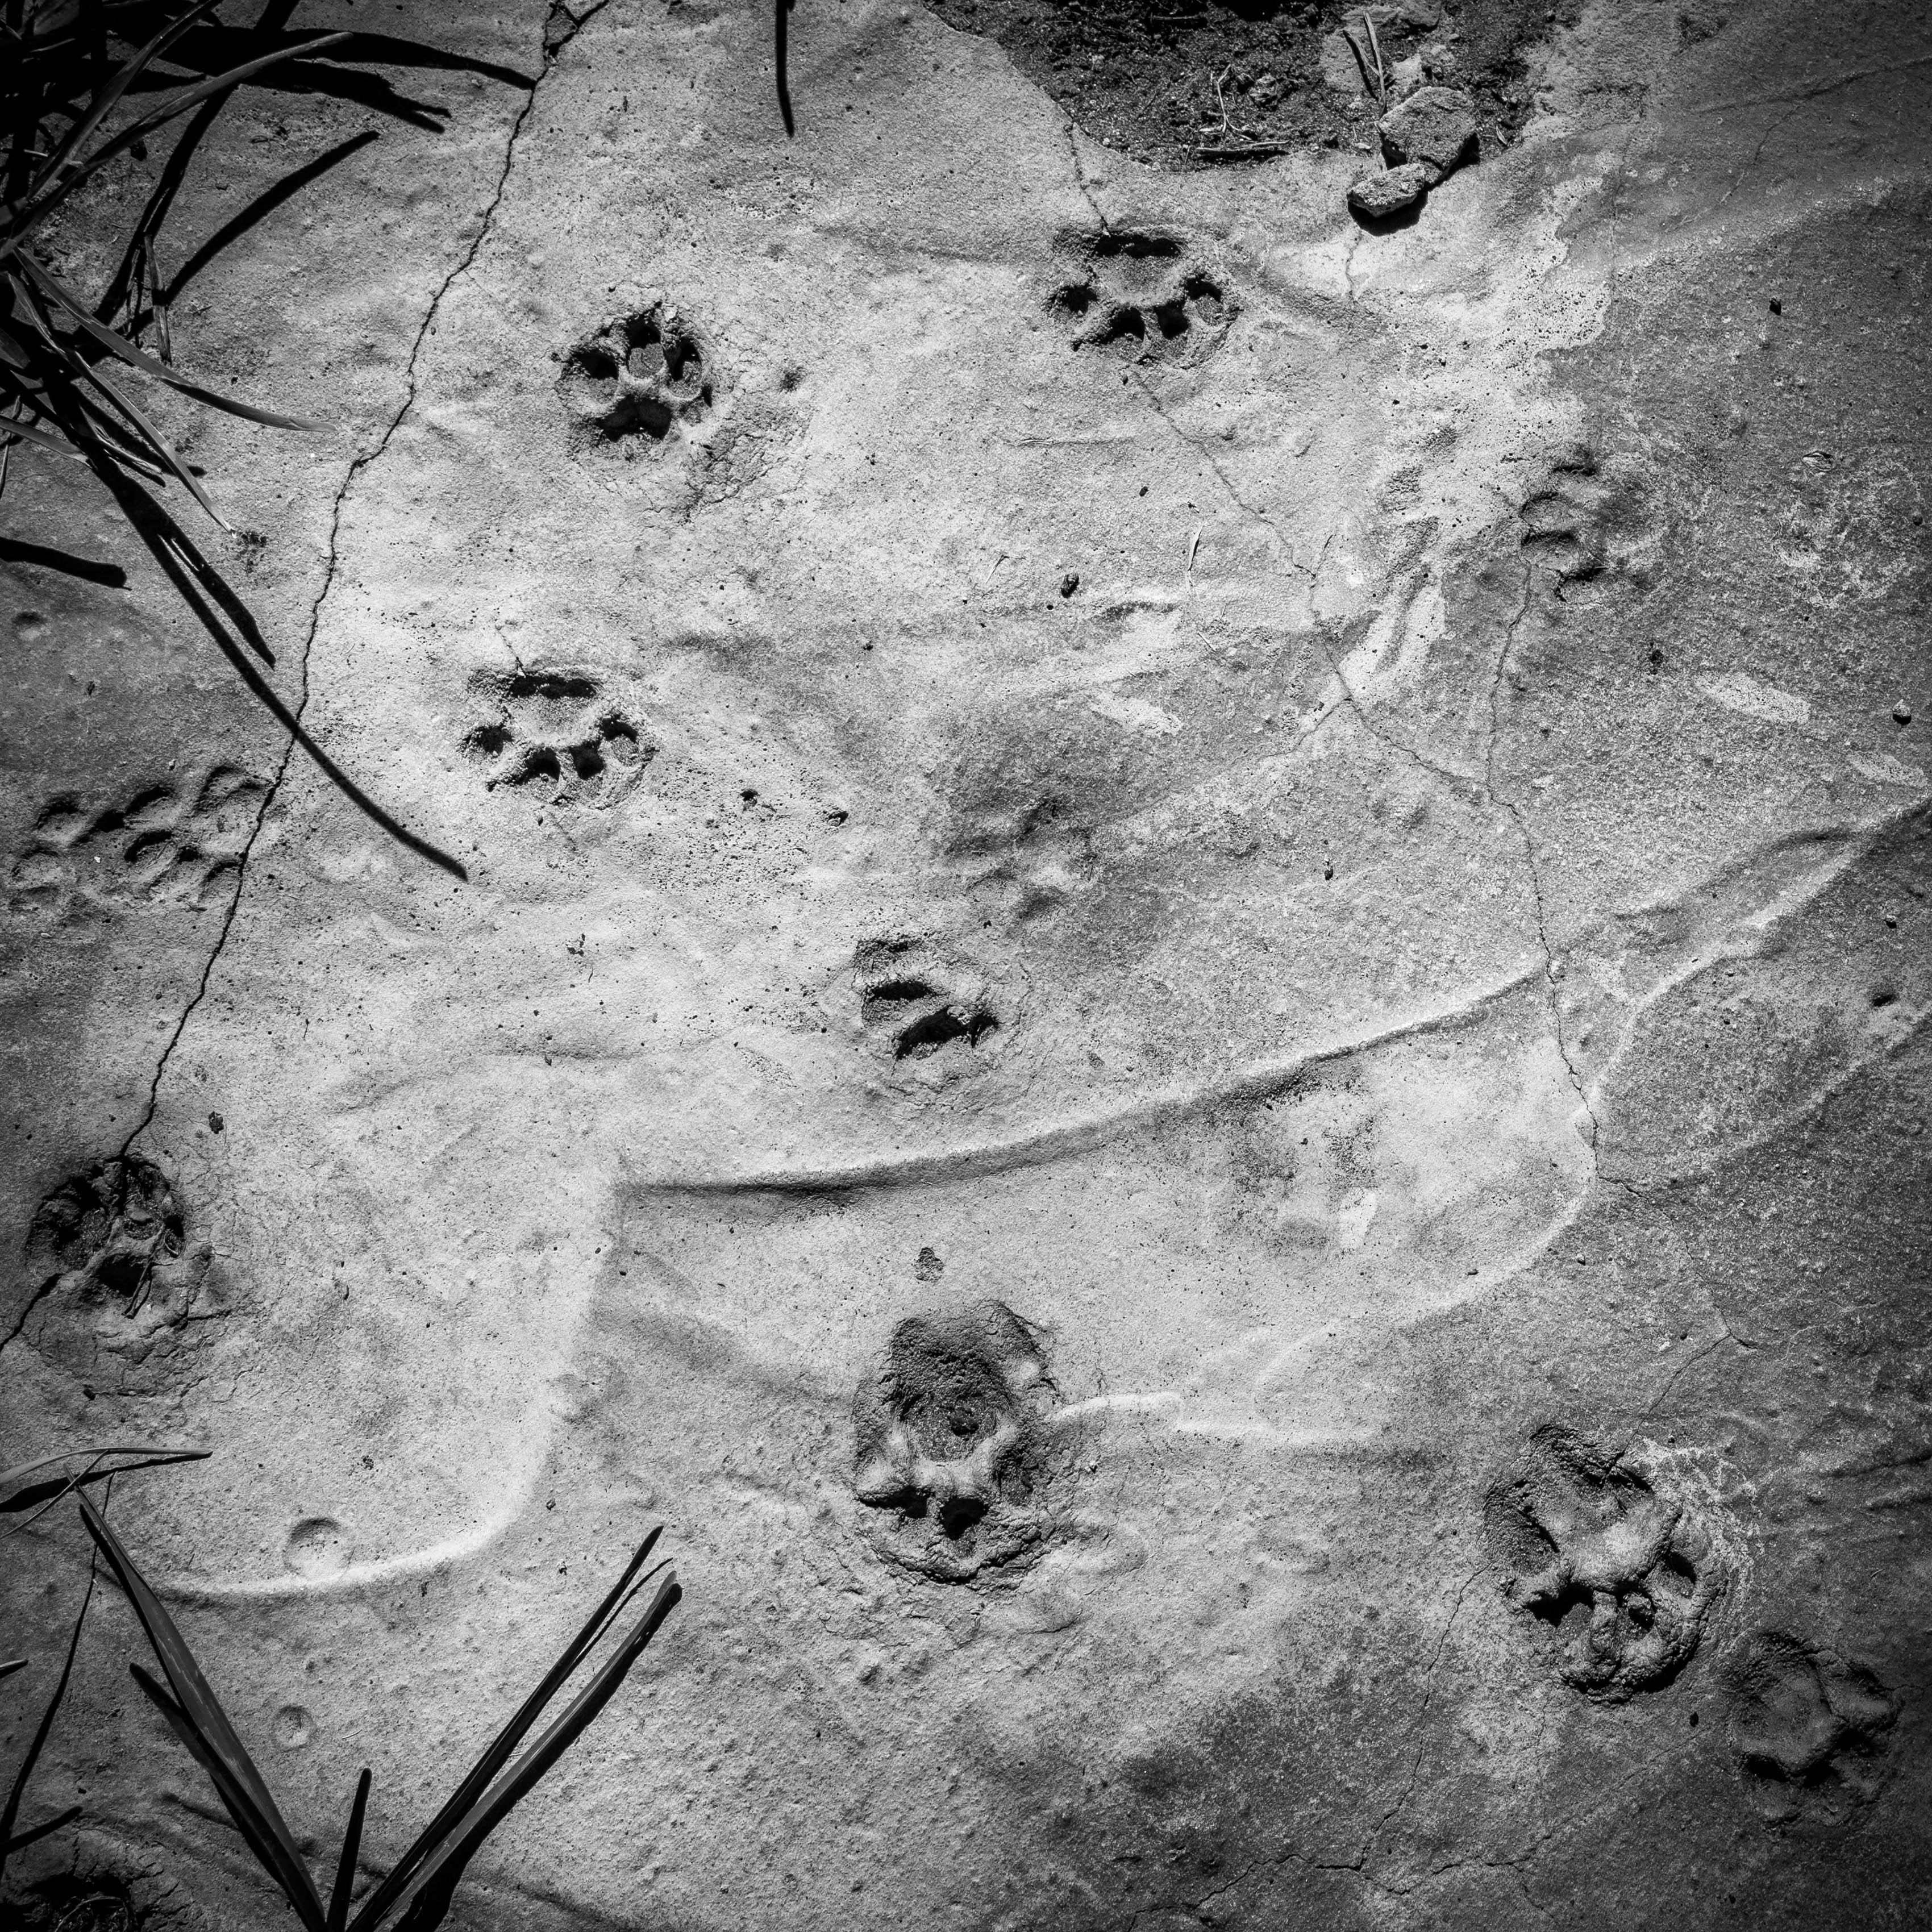cat: (847, 1307, 1092, 1598), (1493, 1454, 1727, 1723), (64, 757, 313, 957), (39, 1141, 216, 1364), (1033, 207, 1221, 396), (1504, 442, 1683, 625), (540, 304, 722, 471), (446, 665, 640, 810)
